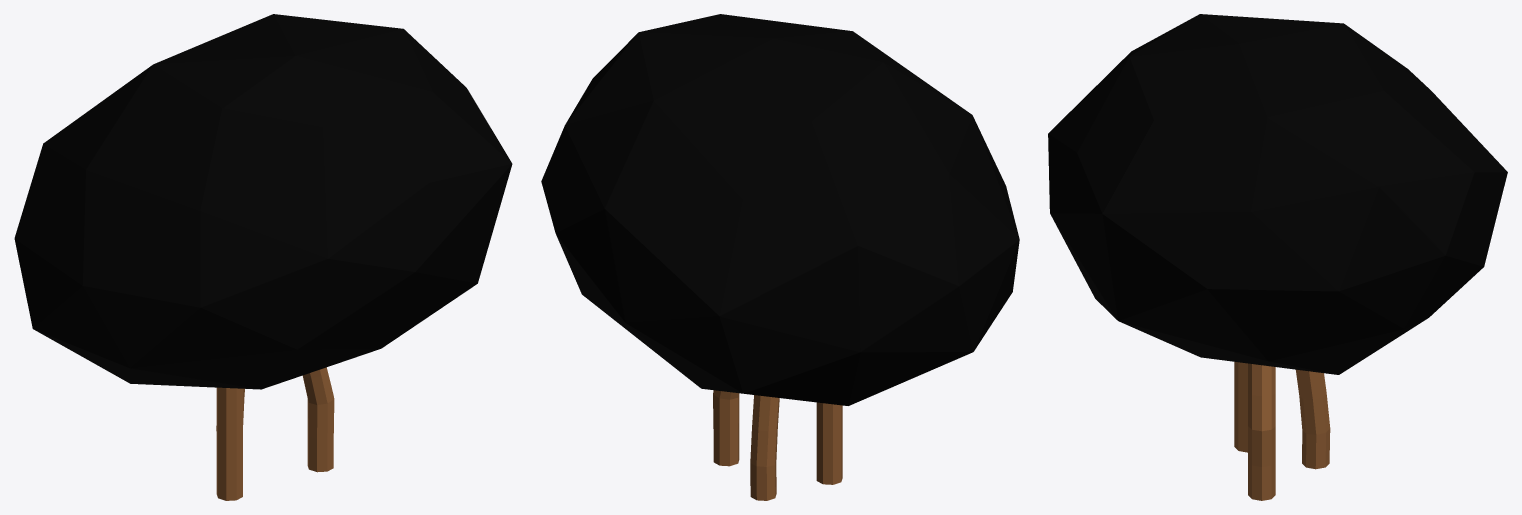
File: Bush_1_Large.fbx
3 views of the same model, side by side, from view 1: azimuth 30°, elevation 25°; view 2: azimuth 150°, elevation 25°; view 3: azimuth 270°, elevation 25° (orthographic). The views are drawn at different scales.
Parts seen in each view (by area): view 1: Bush_1_Large; view 2: Bush_1_Large; view 3: Bush_1_Large.
Boxes of the visible parts, x1,y1,x2,y2 form: Bush_1_Large: [14, 14, 512, 500]; Bush_1_Large: [541, 14, 1019, 500]; Bush_1_Large: [1048, 14, 1507, 500].
Bounding box in the file's own units: 0.4178 × 0.3958 × 0.3805.
